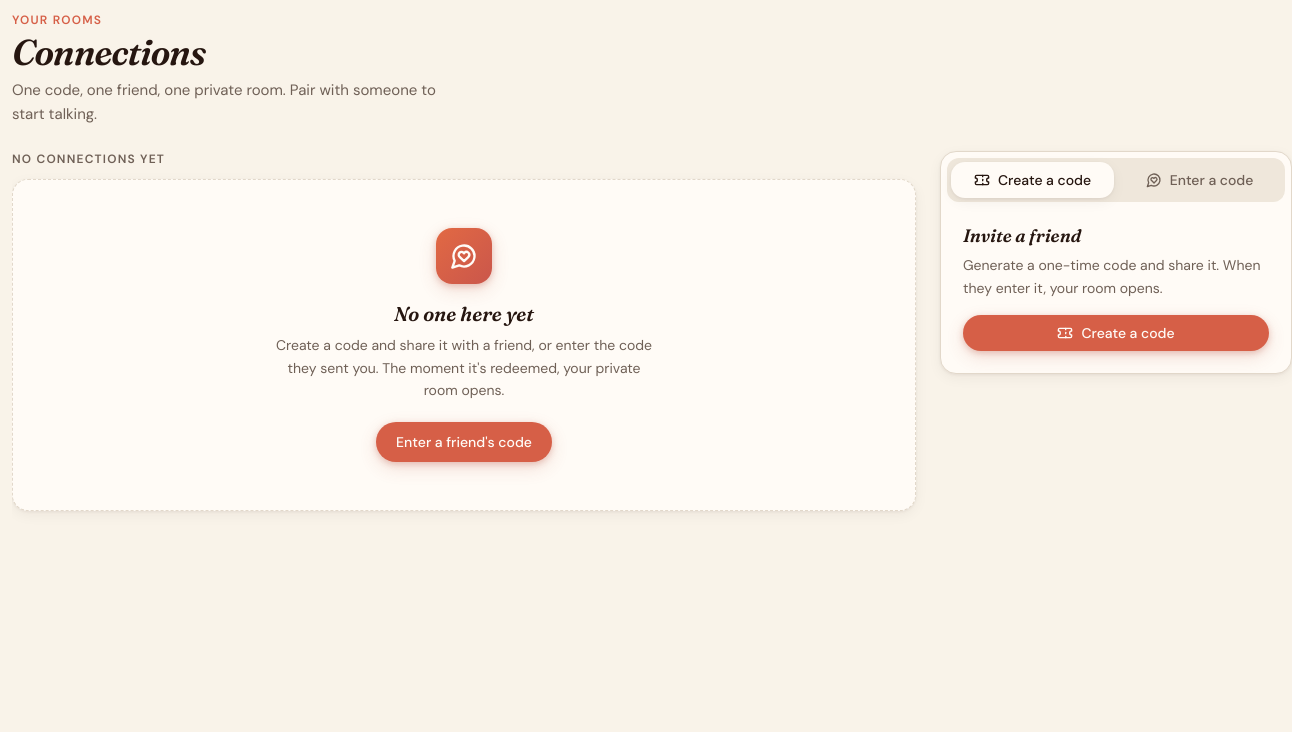
ConnectionsPage pairing flows › surfaces an expired-code error distinctly
Click the tab "Enter a code" at [1200, 180], box [1118, 162, 1281, 198]
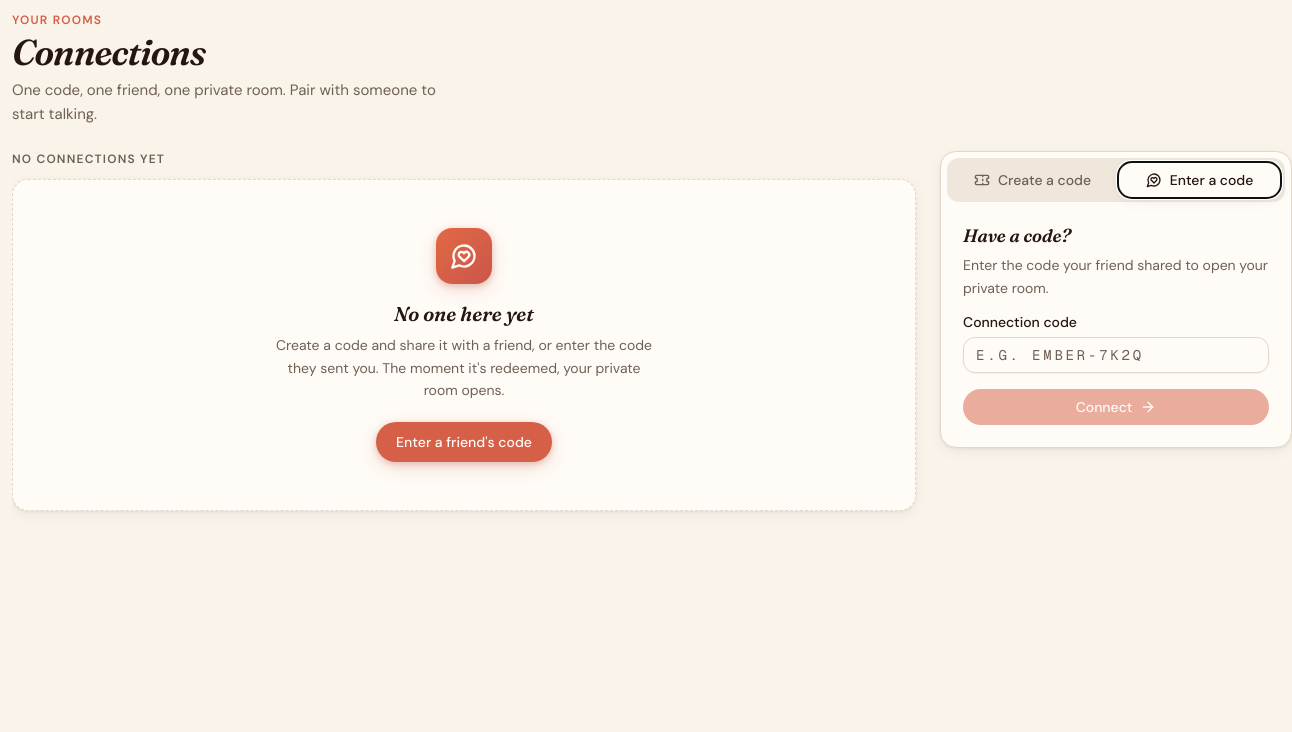
Type "OLD-CODE" into the field labelled "Connection code" at [1116, 355], box [963, 337, 1269, 373]
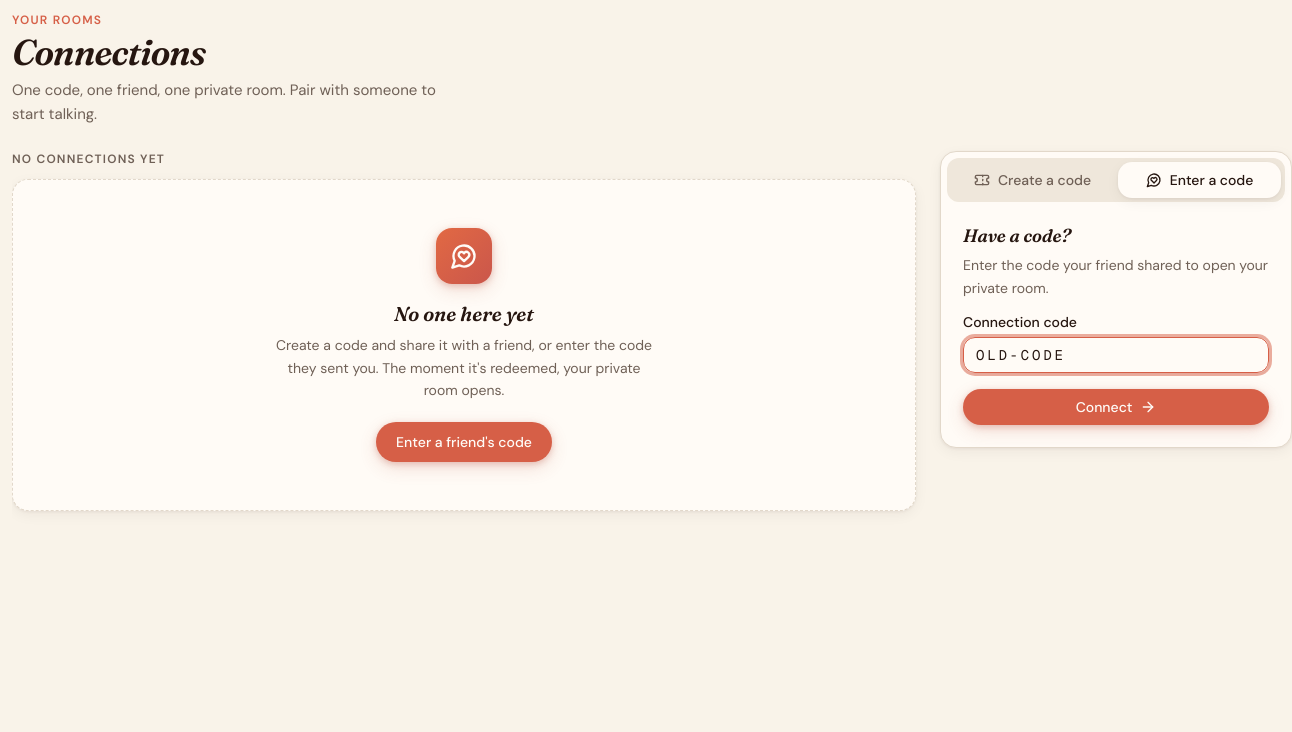
Click the button "Connect" at [1116, 407], box [963, 389, 1269, 425]
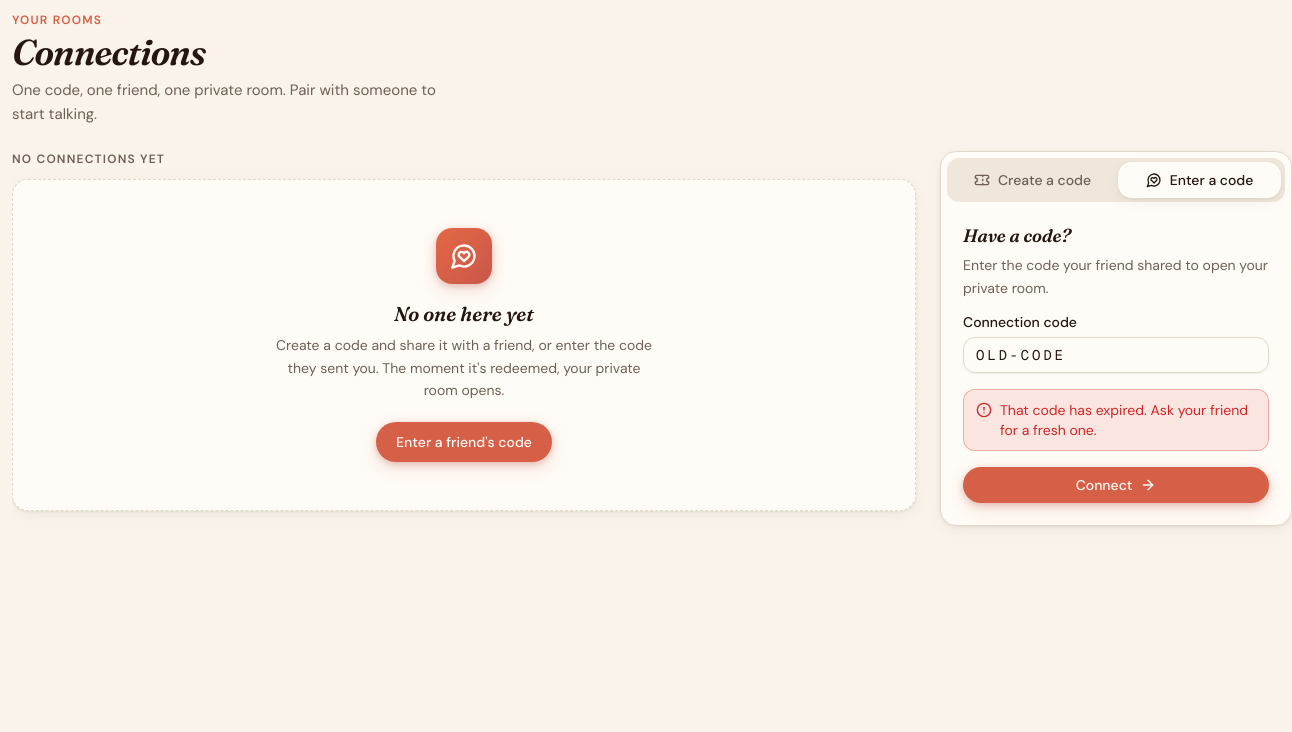
Expected: the message shows "expired", [1000, 401, 1248, 439]
